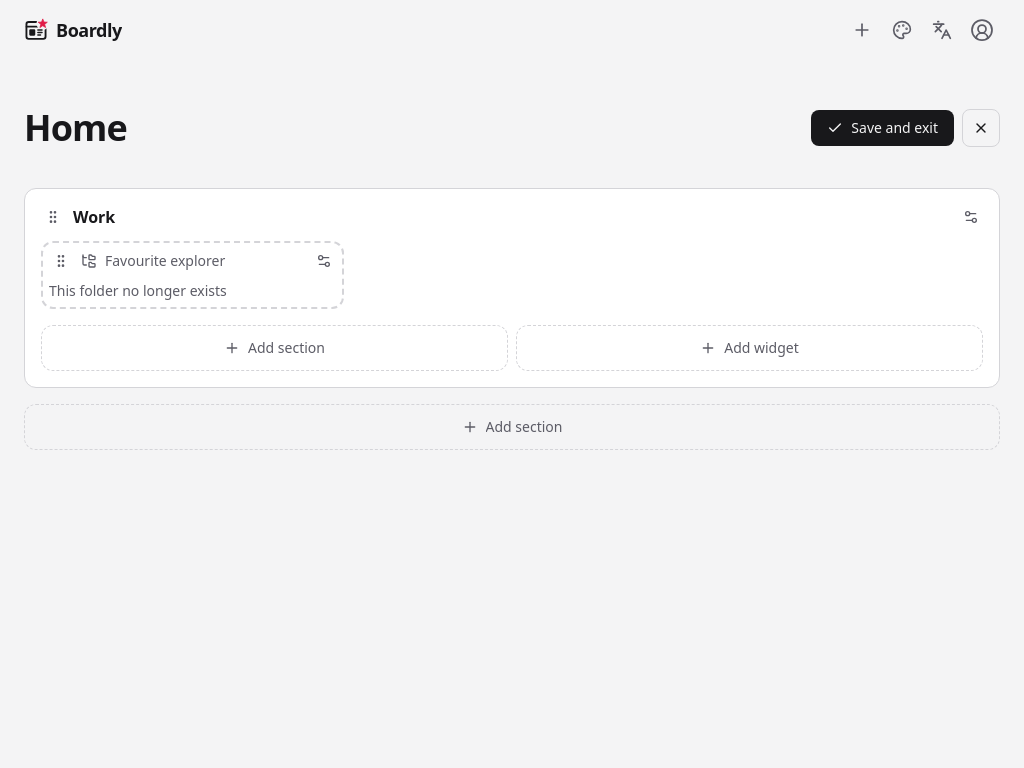
Test: the favourite explorer on a dashboard › shows a deleted folder and lets another one be chosen
The width and height of the screenshot is (1024, 768).
Expected: the button "Save and exit" is shown, [811,110,954,146]
Expected: the text "This folder no longer exists" is shown, [49,281,227,300]
Click the button named "Edit Favourite explorer".
click(324, 261)  # box [312,249,336,273]
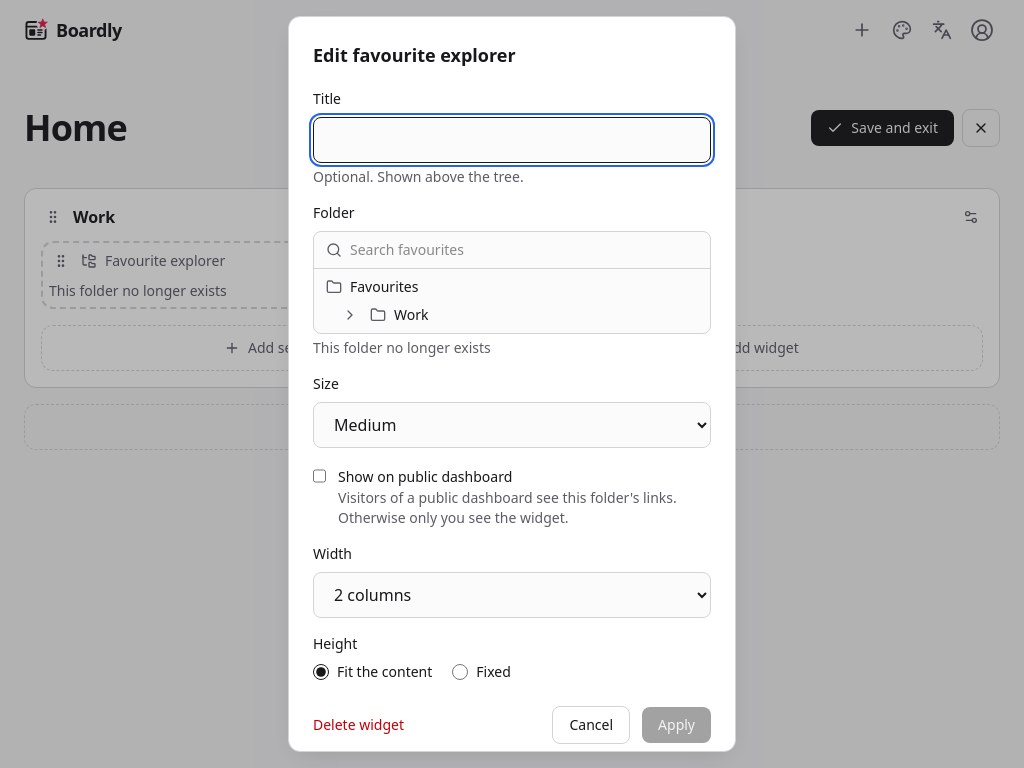
Result: the button "Apply" is disabled at [642,707,711,743]
// Found by searching, shown with the path of its folder.
Type "too" into the search field.
click(524, 250); type("too")  # box [350,232,698,268]
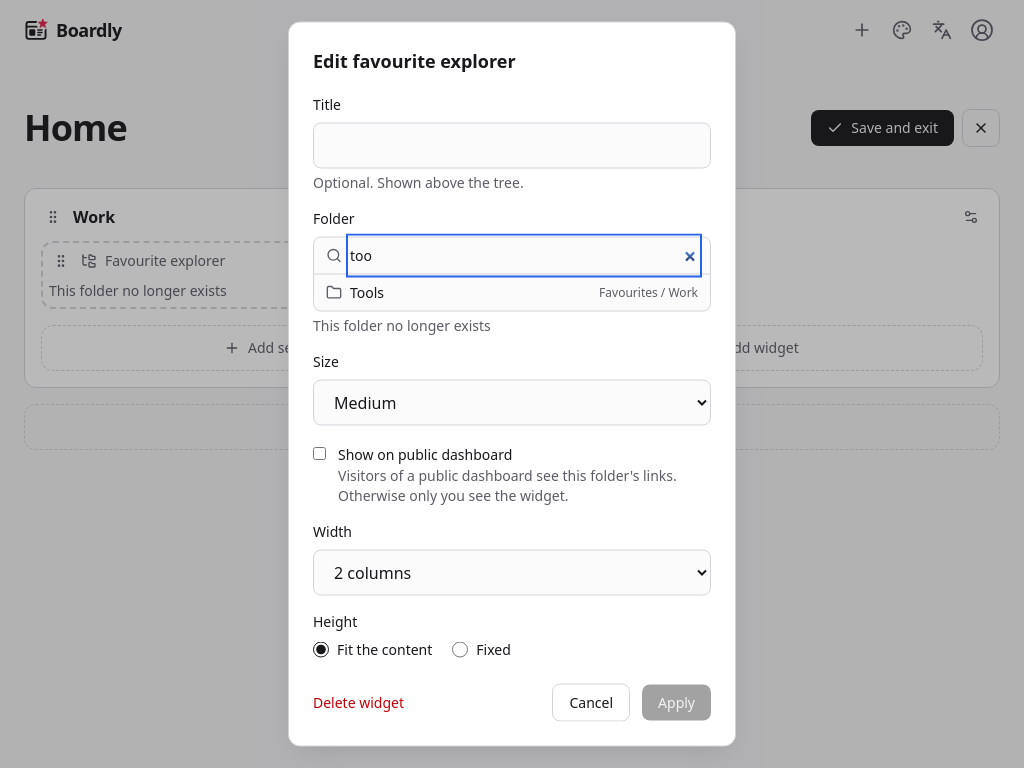
Click the radio button labelled "Tools".
click(355, 292)  # box [326,282,384,302]
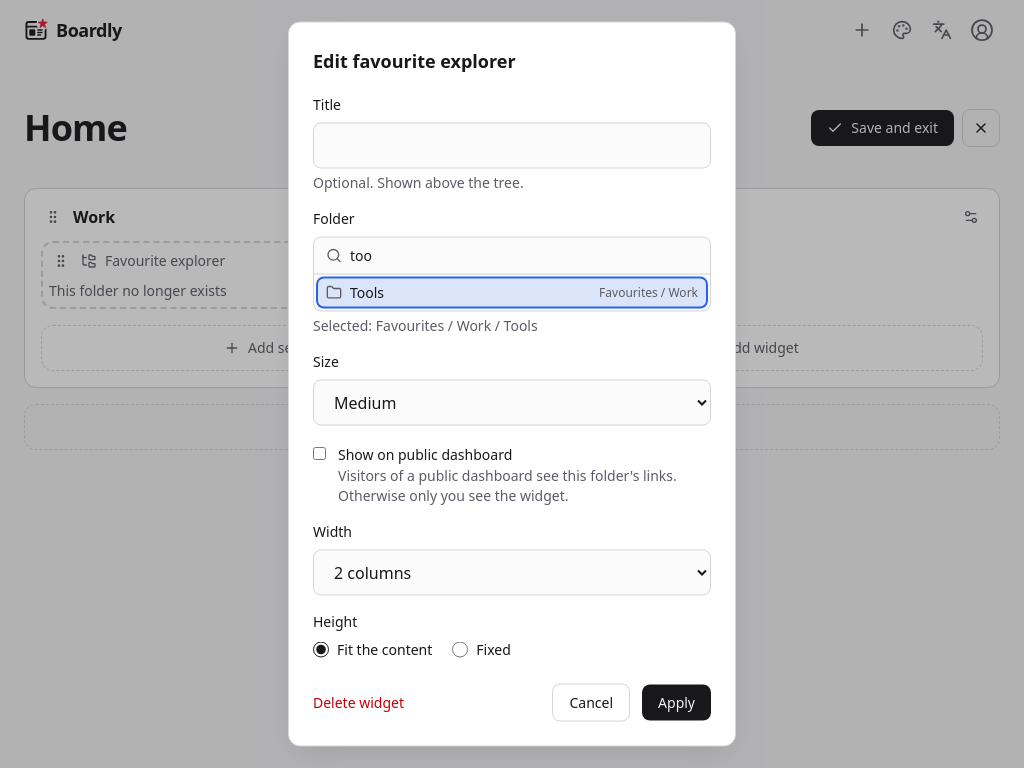
Click the button "Apply".
click(677, 702)  # box [642,684,711,720]
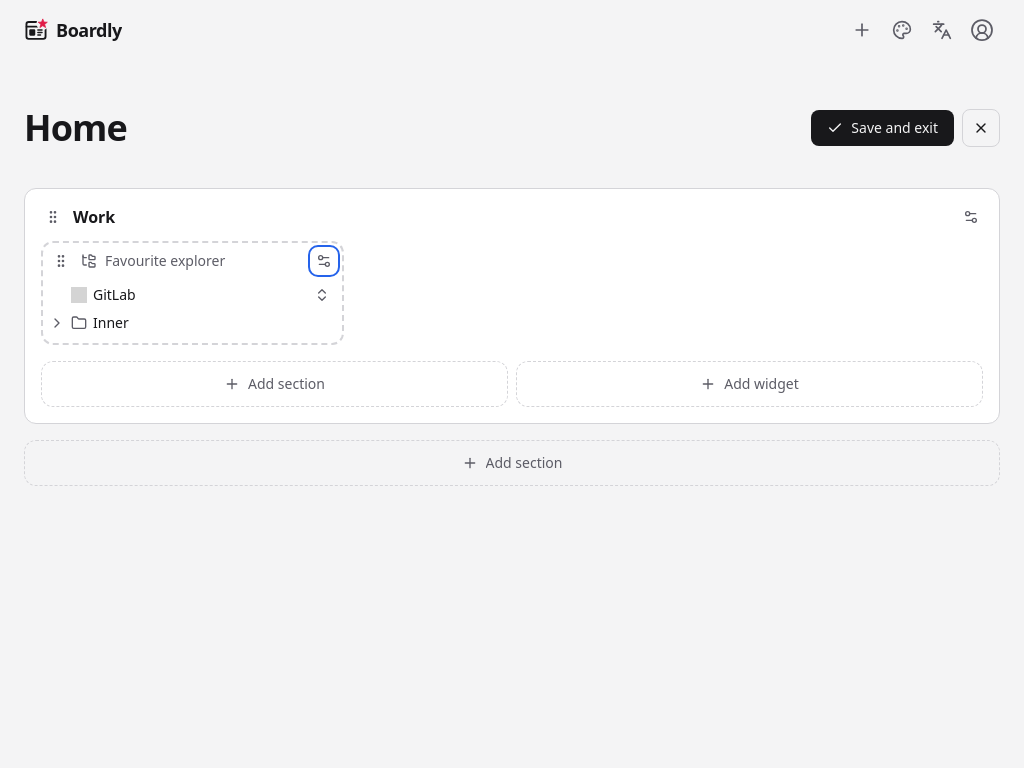
Result: the text "GitLab" is shown at [93,285,136,304]
